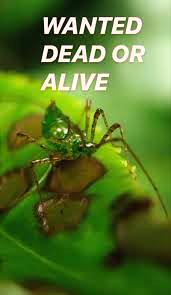Helopeltis-insect: (31, 97, 111, 166)
